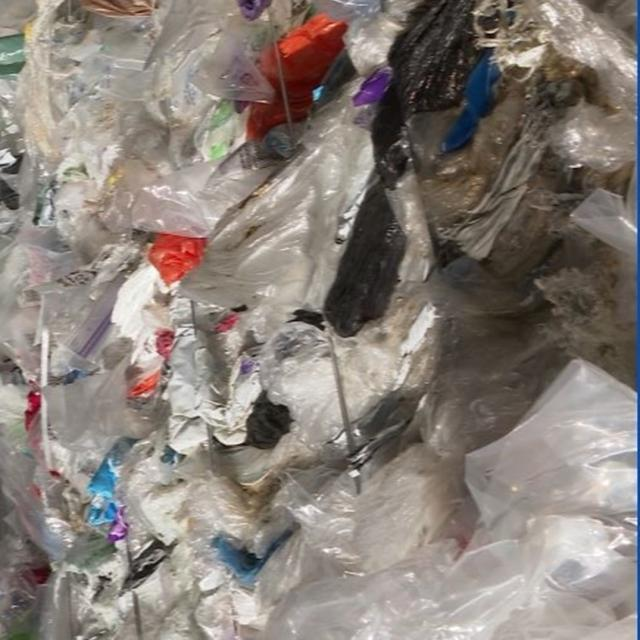Single-layer Plastic: (268, 360, 636, 640), (20, 0, 304, 255), (324, 0, 479, 336), (180, 90, 374, 321), (474, 0, 636, 193), (418, 256, 570, 458), (288, 442, 464, 581)
